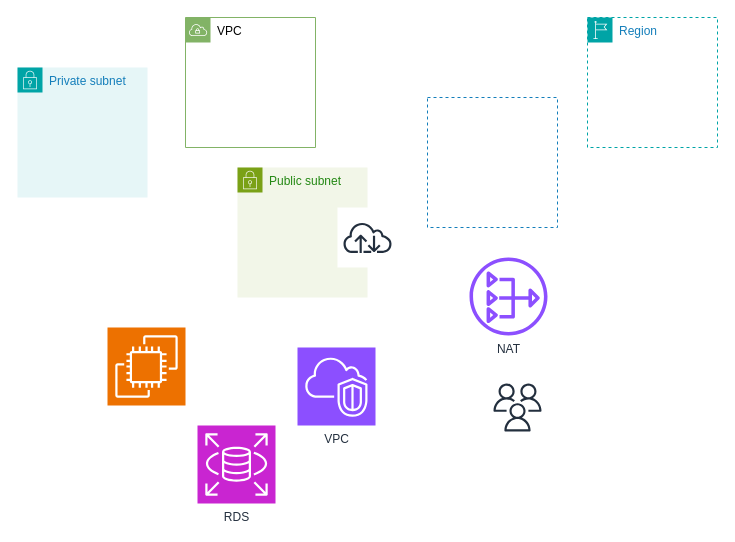
Some shapes in this 735 by 542 pixel diagram are drawn without their labels. Each missing label, with the centre of its shape:
"Availability Zone" belongs at pixel 492 162.
"EC2" belongs at pixel 146 366.
"Internet" belongs at pixel 367 237.
"Users" belongs at pixel 517 407.
